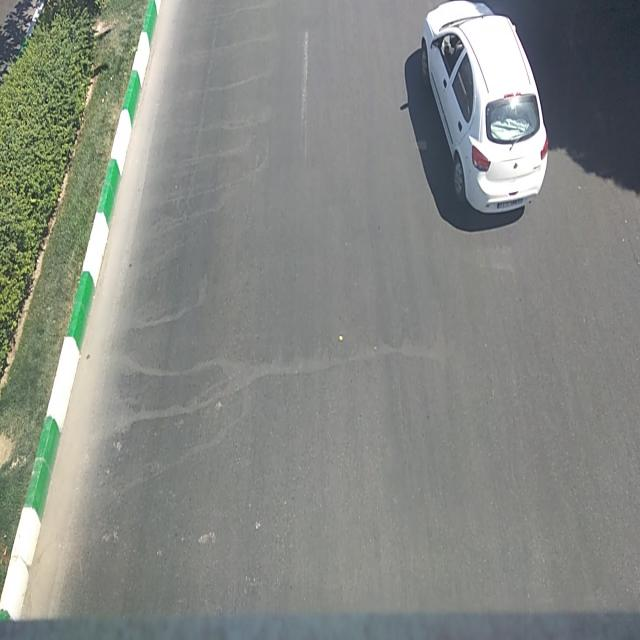car: (422, 2, 550, 217)
